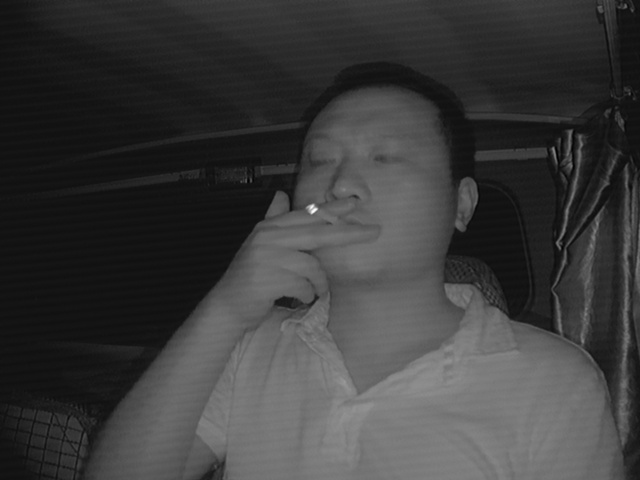hand: (262, 192, 362, 307)
